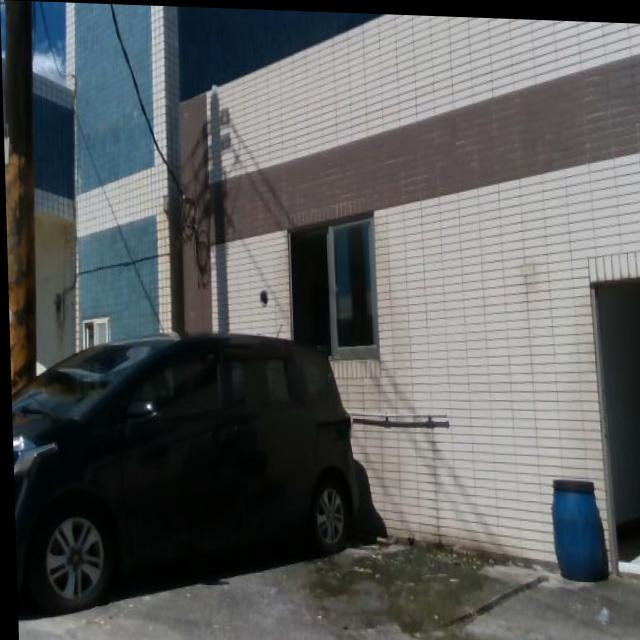pollute: (544, 472, 612, 583)
